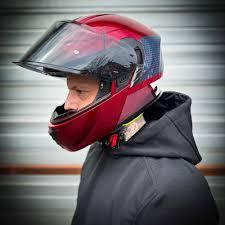Helmet: (15, 14, 162, 150)
